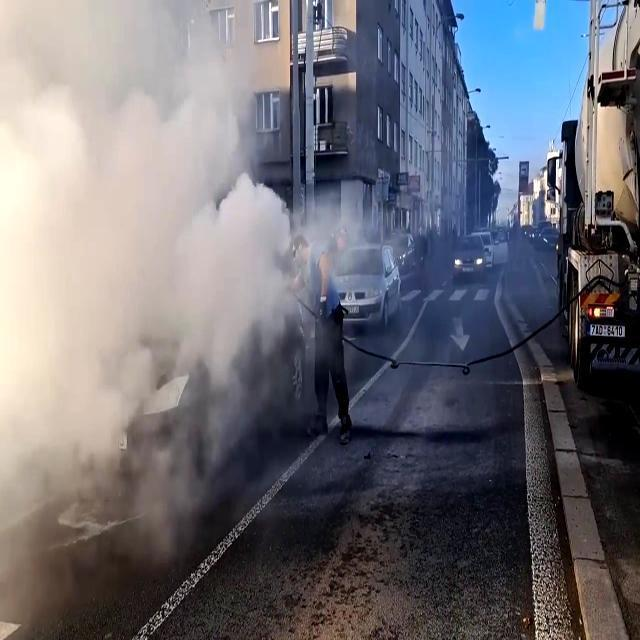Smoke: (0, 7, 318, 571)
